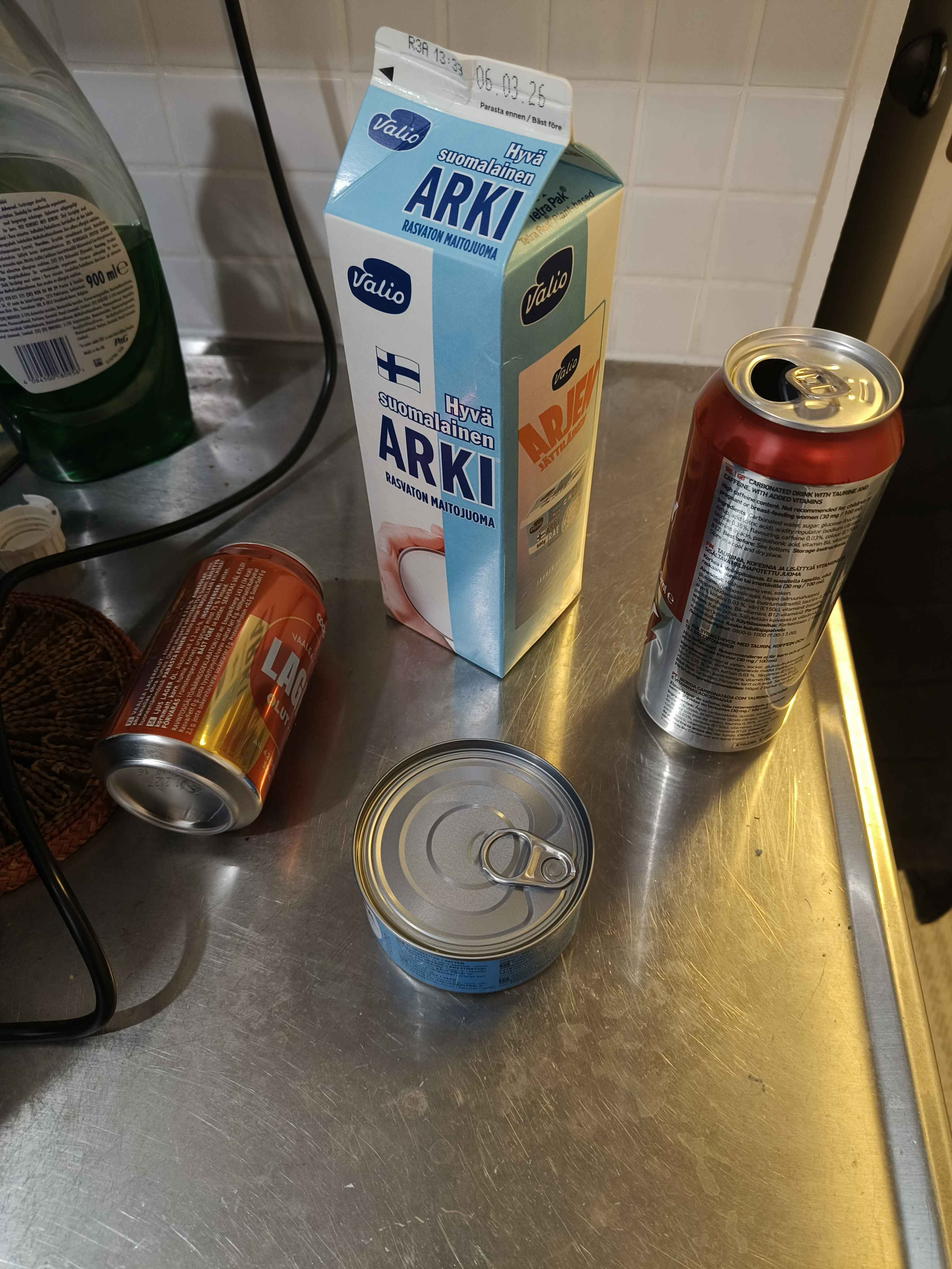Dryckeskartong: (323, 25, 624, 681)
Konservburk: (352, 737, 595, 996)
Pantburk: (636, 326, 906, 753), (91, 539, 330, 835)
